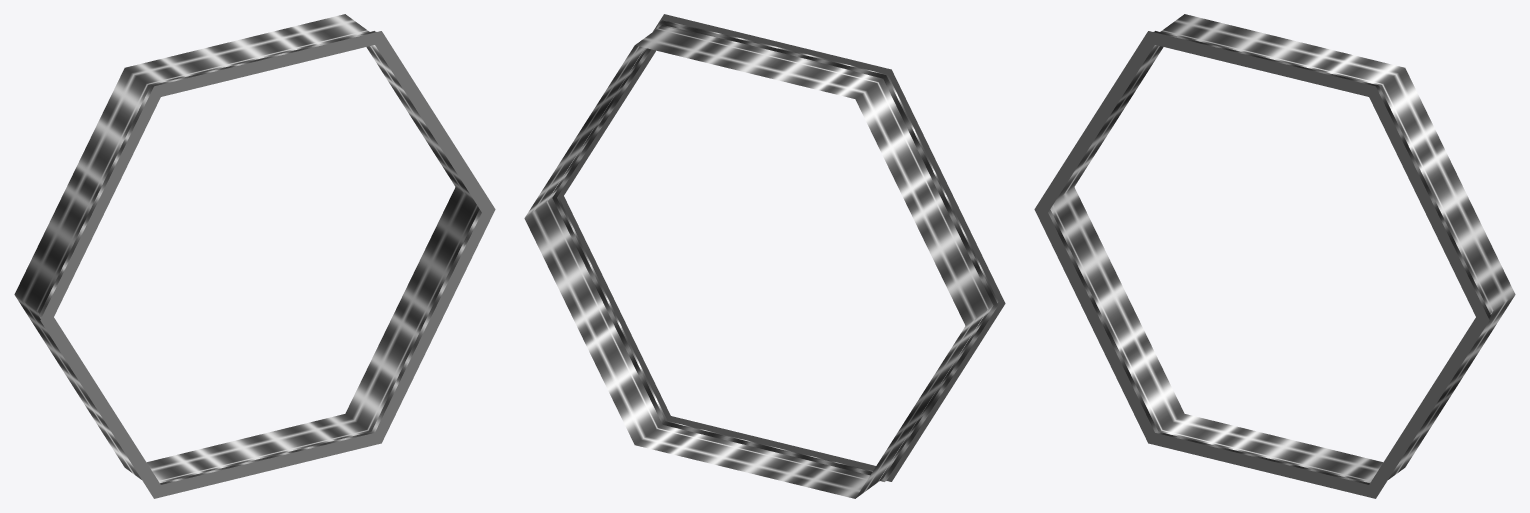
File: GKBarrior.obj
The picture shows the model from 3 angles, left to right: view 1: azimuth 30°, elevation 25°; view 2: azimuth 150°, elevation 25°; view 3: azimuth 330°, elevation 25°; orthographic projection.
Visible parts, largest first — view 1: pCylinder482__WallEffect00, pCylinder485__WallEffect01; view 2: pCylinder482__WallEffect00, pCylinder485__WallEffect01; view 3: pCylinder482__WallEffect00, pCylinder485__WallEffect01.
Boxes of the visible parts, left/top/right/bottom form: pCylinder482__WallEffect00: left=14, top=14, right=481, bottom=484; pCylinder485__WallEffect01: left=40, top=31, right=495, bottom=498; pCylinder482__WallEffect00: left=524, top=20, right=998, bottom=498; pCylinder485__WallEffect01: left=558, top=14, right=1005, bottom=481; pCylinder482__WallEffect00: left=1048, top=14, right=1515, bottom=484; pCylinder485__WallEffect01: left=1034, top=31, right=1489, bottom=498.
Size of the model in its own units: 3908 by 3385 by 490.
3 materials, 1 textured.
